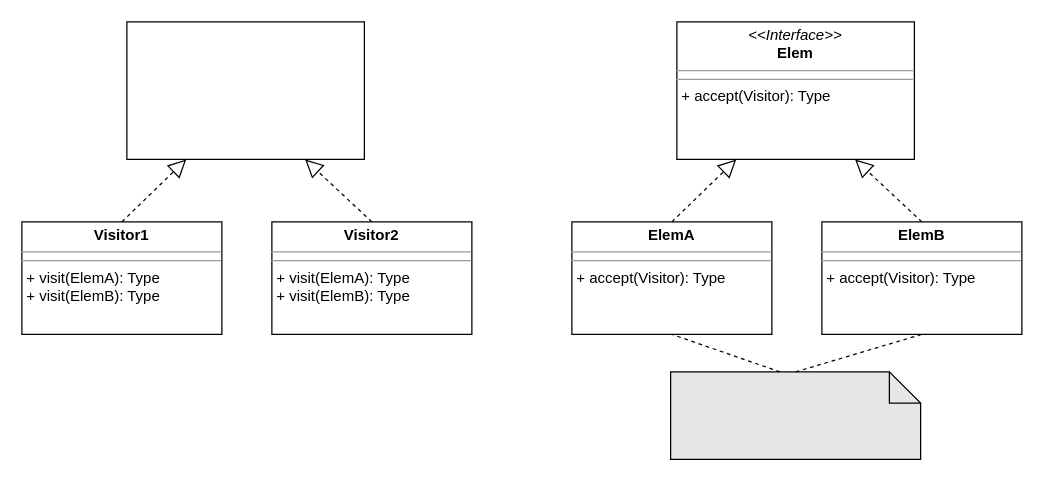
The diagram is 1044 pixels wide and 481 high, and some of its shapes have lost their labels. The box of each missing label's shape, as (x1, y1, x2, y2) in pixels:
<<Interface>> Visitor + visit(ElemA): Type + visit(ElemB): Type: (126, 21, 364, 159)
Type accept(Visitor v) { return v.visit(this); }: (669, 371, 921, 459)
